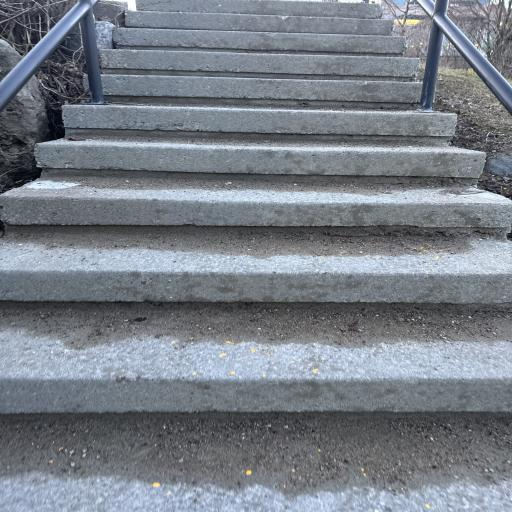Stairs: (0, 0, 512, 413)
